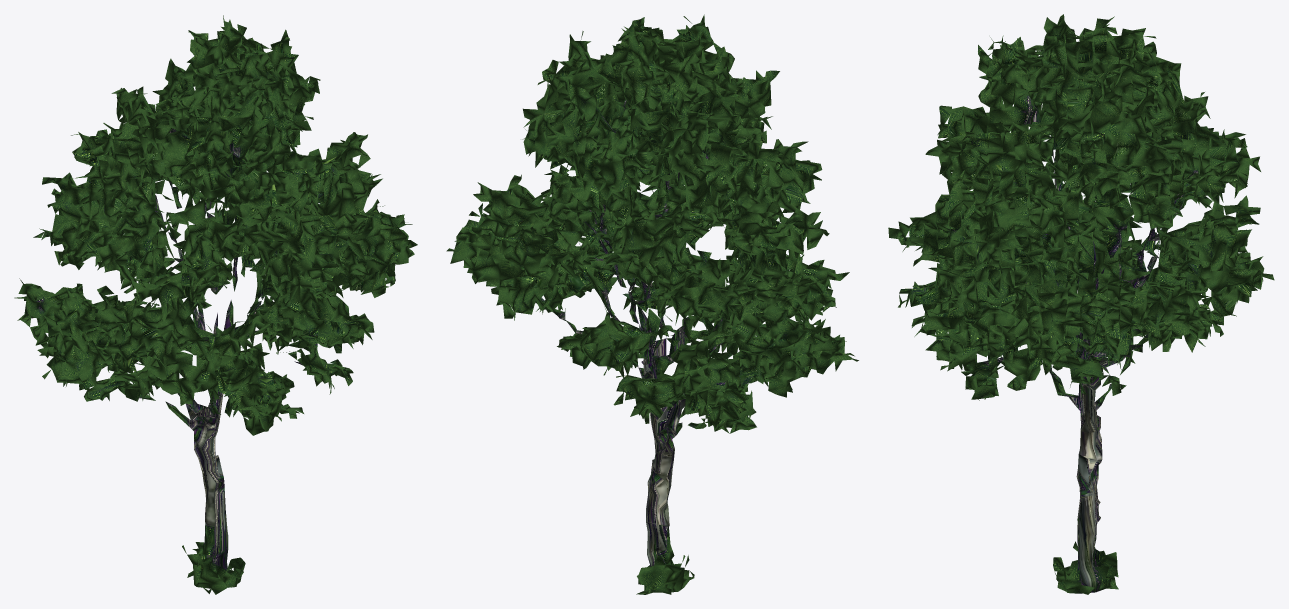
File: birch_far.glb
The picture shows the model from 3 angles, left to right: view 1: azimuth 30°, elevation 25°; view 2: azimuth 150°, elevation 25°; view 3: azimuth 270°, elevation 25°; orthographic projection. The views are drawn at different scales.
Parts seen in each view (by area): view 1: mesh_node; view 2: mesh_node; view 3: mesh_node.
Part boxes in pixels (<box>): mesh_node: <box>14,15,417,594</box>; mesh_node: <box>446,14,858,594</box>; mesh_node: <box>888,14,1274,594</box>.
Bounding box in the file's own units: 1.31 × 1.9 × 1.14.
Materials: 1 (1 with a texture image).
